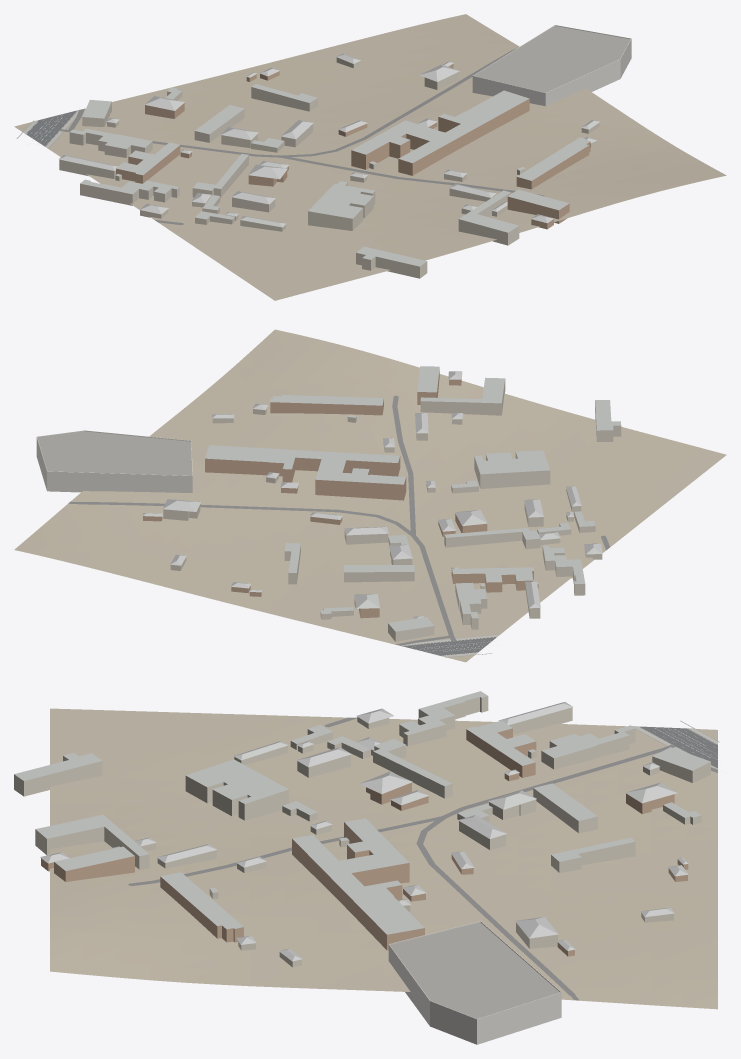
Rendered from bolak_9_-11.glb.
3 views of the same model, one above another, from view 1: azimuth 30°, elevation 25°; view 2: azimuth 150°, elevation 25°; view 3: azimuth 270°, elevation 25° (orthographic). The views are drawn at different scales.
Visible parts, largest first — view 1: Yer_Tuproq-col, Tom_Shifer, Devor_Suvoq-col, Devor_Gisht-col, Tom_Tekis, Devor_Dokon-col, Yol_Mahalla-col, Yol_Asfalt-col; view 2: Yer_Tuproq-col, Tom_Shifer, Devor_Suvoq-col, Devor_Gisht-col, Tom_Tekis, Devor_Dokon-col, Yol_Mahalla-col, Yol_Asfalt-col; view 3: Yer_Tuproq-col, Tom_Shifer, Devor_Suvoq-col, Tom_Tekis, Devor_Gisht-col, Devor_Dokon-col, Yol_Mahalla-col, Yol_Asfalt-col.
Boxes of the visible parts, x1=… form: Yer_Tuproq-col: x1=14, y1=14, x2=726, y2=300; Tom_Shifer: x1=59, y1=53, x2=599, y2=266; Devor_Suvoq-col: x1=59, y1=57, x2=599, y2=278; Devor_Gisht-col: x1=116, y1=63, x2=590, y2=229; Tom_Tekis: x1=475, y1=26, x2=630, y2=92; Devor_Dokon-col: x1=472, y1=25, x2=631, y2=106; Yol_Mahalla-col: x1=60, y1=48, x2=544, y2=224; Yol_Asfalt-col: x1=26, y1=110, x2=77, y2=146; Yer_Tuproq-col: x1=14, y1=329, x2=726, y2=662; Tom_Shifer: x1=142, y1=366, x2=621, y2=631; Devor_Suvoq-col: x1=163, y1=379, x2=621, y2=641; Devor_Gisht-col: x1=143, y1=369, x2=533, y2=618; Tom_Tekis: x1=37, y1=431, x2=192, y2=475; Devor_Dokon-col: x1=36, y1=430, x2=192, y2=492; Yol_Mahalla-col: x1=68, y1=395, x2=609, y2=645; Yol_Asfalt-col: x1=402, y1=637, x2=496, y2=655; Yer_Tuproq-col: x1=50, y1=708, x2=717, y2=1009; Tom_Shifer: x1=14, y1=691, x2=710, y2=961; Devor_Suvoq-col: x1=14, y1=696, x2=710, y2=967; Tom_Tekis: x1=390, y1=922, x2=559, y2=1018; Devor_Gisht-col: x1=41, y1=728, x2=688, y2=956; Devor_Dokon-col: x1=388, y1=921, x2=561, y2=1044; Yol_Mahalla-col: x1=128, y1=717, x2=717, y2=1000; Yol_Asfalt-col: x1=638, y1=726, x2=717, y2=768.
Size of what is drawn, in the model's own units: 487 by 30.76 by 427.
